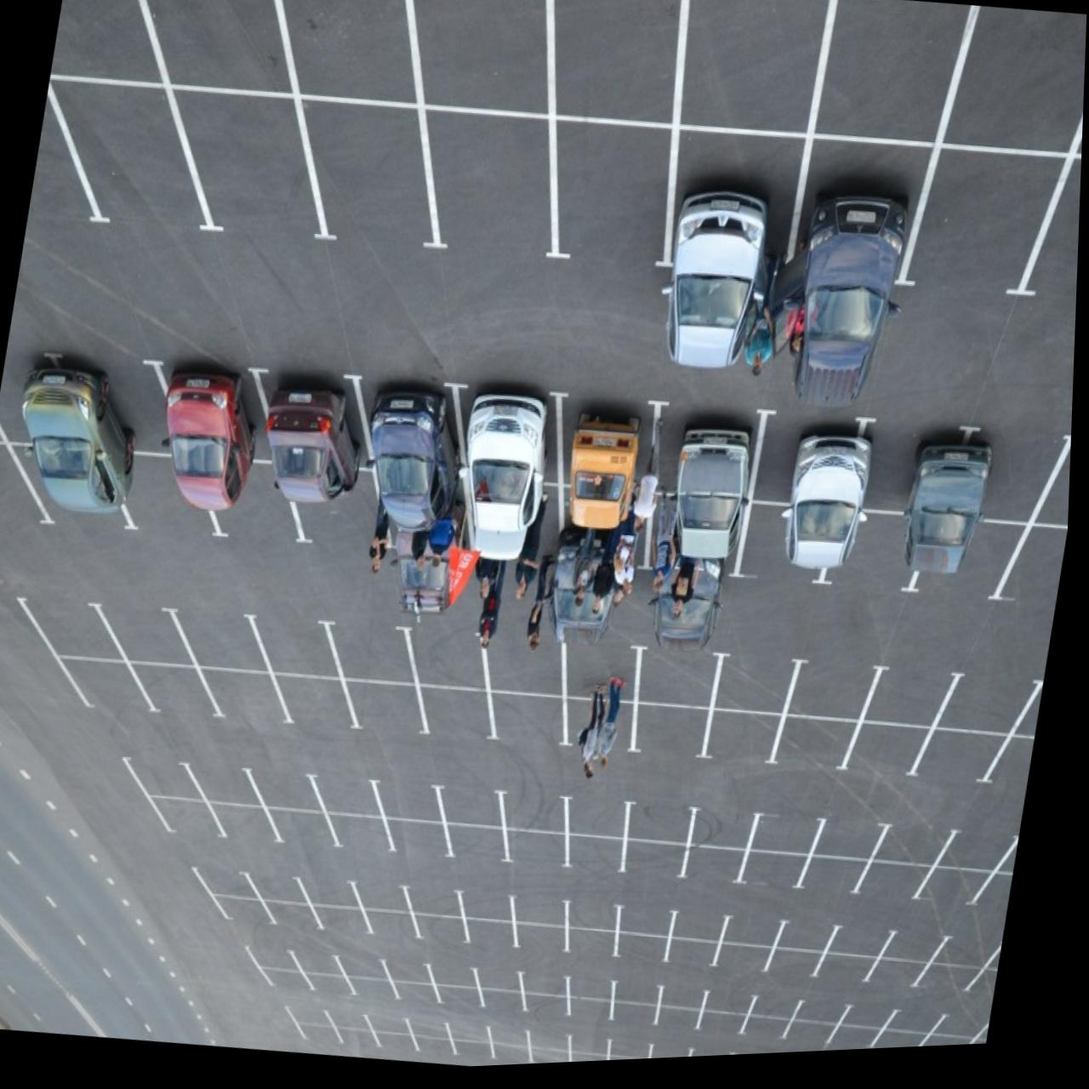cars: (653, 114, 809, 323), (784, 138, 927, 334), (256, 352, 370, 479), (451, 374, 568, 495), (354, 362, 471, 483), (162, 359, 278, 477), (636, 494, 754, 605), (546, 502, 652, 622), (859, 410, 962, 528), (955, 415, 1060, 530), (649, 393, 749, 511), (755, 403, 862, 513), (552, 385, 655, 497), (75, 358, 170, 465), (382, 489, 475, 596), (0, 352, 70, 459)
empty: (519, 99, 700, 299), (284, 78, 459, 277), (156, 85, 346, 264), (412, 89, 570, 287), (915, 142, 1056, 328), (60, 71, 210, 239), (824, 0, 970, 148), (682, 0, 830, 140), (541, 0, 704, 127), (403, 0, 553, 125), (137, 0, 294, 117), (267, 0, 430, 112), (964, 2, 1087, 150), (105, 442, 228, 557), (14, 433, 128, 555), (914, 504, 1024, 617), (47, 0, 168, 101), (822, 494, 932, 603), (196, 464, 310, 565), (283, 474, 393, 572), (471, 490, 567, 590), (745, 496, 840, 597), (169, 597, 273, 684), (627, 635, 734, 719), (99, 596, 199, 674), (47, 655, 158, 724), (784, 638, 875, 722), (946, 655, 1038, 738), (323, 616, 424, 689), (866, 655, 954, 736), (403, 621, 499, 695), (915, 726, 1016, 793), (24, 597, 129, 661), (556, 630, 643, 706), (715, 641, 801, 714), (845, 714, 931, 785), (125, 666, 224, 727), (196, 670, 298, 729), (258, 612, 341, 684), (775, 709, 856, 779), (481, 632, 560, 702), (340, 679, 432, 739), (270, 676, 366, 732), (703, 703, 782, 768), (490, 689, 577, 746), (558, 690, 639, 750), (744, 807, 827, 863), (629, 705, 712, 760), (119, 748, 202, 803), (870, 818, 956, 871), (940, 823, 1017, 882), (501, 783, 574, 845), (415, 688, 498, 742), (149, 796, 233, 848), (247, 760, 326, 815), (434, 782, 514, 834), (910, 863, 996, 911), (307, 772, 386, 824), (184, 757, 263, 809), (623, 801, 696, 855), (811, 814, 885, 867), (203, 798, 286, 845), (373, 780, 445, 831), (264, 806, 339, 852), (380, 817, 455, 863), (562, 795, 630, 845), (930, 929, 1001, 975), (738, 852, 808, 898), (688, 810, 759, 855), (876, 923, 940, 972), (857, 863, 930, 905), (440, 825, 508, 869), (560, 834, 628, 878), (798, 856, 869, 898), (321, 815, 396, 854), (623, 838, 687, 883), (455, 883, 517, 929), (256, 896, 327, 936), (297, 873, 364, 914), (669, 902, 726, 950), (681, 846, 743, 890), (771, 915, 833, 959), (719, 911, 781, 955), (502, 830, 568, 871), (310, 902, 376, 942), (509, 889, 576, 928), (214, 892, 282, 930), (196, 865, 259, 906), (826, 924, 890, 963), (458, 917, 525, 954), (713, 937, 776, 976), (561, 901, 624, 940), (864, 956, 934, 991), (615, 903, 676, 943), (814, 950, 876, 989), (793, 990, 852, 1030), (783, 1013, 842, 1052), (408, 910, 470, 947), (402, 883, 463, 920), (764, 944, 823, 982), (699, 985, 758, 1023), (248, 871, 313, 905), (836, 1001, 897, 1037), (613, 930, 669, 969), (739, 1010, 795, 1048), (605, 980, 664, 1016), (913, 965, 983, 995), (882, 1004, 947, 1036), (560, 933, 623, 966), (359, 908, 422, 941), (509, 923, 570, 957), (517, 966, 574, 1002), (430, 981, 487, 1017), (745, 989, 803, 1024), (665, 939, 719, 976), (566, 995, 620, 1032), (352, 877, 410, 911), (932, 1011, 990, 1045), (653, 1001, 707, 1037), (660, 980, 711, 1017), (698, 1007, 750, 1043), (388, 976, 445, 1008), (262, 966, 320, 997), (471, 965, 527, 997), (301, 968, 352, 1003), (565, 973, 620, 1005), (520, 994, 575, 1026), (827, 1020, 884, 1050), (474, 987, 530, 1017), (379, 953, 431, 985), (371, 1028, 422, 1060), (871, 1023, 931, 1049), (610, 1008, 660, 1039), (246, 946, 302, 973), (329, 1026, 385, 1053), (421, 958, 478, 984), (348, 973, 395, 1004), (447, 1036, 493, 1067), (522, 1031, 577, 1056), (291, 948, 343, 974), (295, 1025, 345, 1052), (447, 1018, 497, 1044), (412, 1032, 455, 1062), (285, 1005, 333, 1031), (410, 1016, 458, 1041), (336, 955, 384, 979), (367, 1015, 413, 1040), (329, 1007, 381, 1027), (491, 1041, 532, 1065), (525, 1046, 575, 1064), (917, 1032, 978, 1046), (685, 1043, 744, 1057), (569, 1035, 610, 1055), (606, 1042, 651, 1060), (651, 1040, 693, 1058), (495, 1024, 529, 1046), (570, 1052, 611, 1062)
